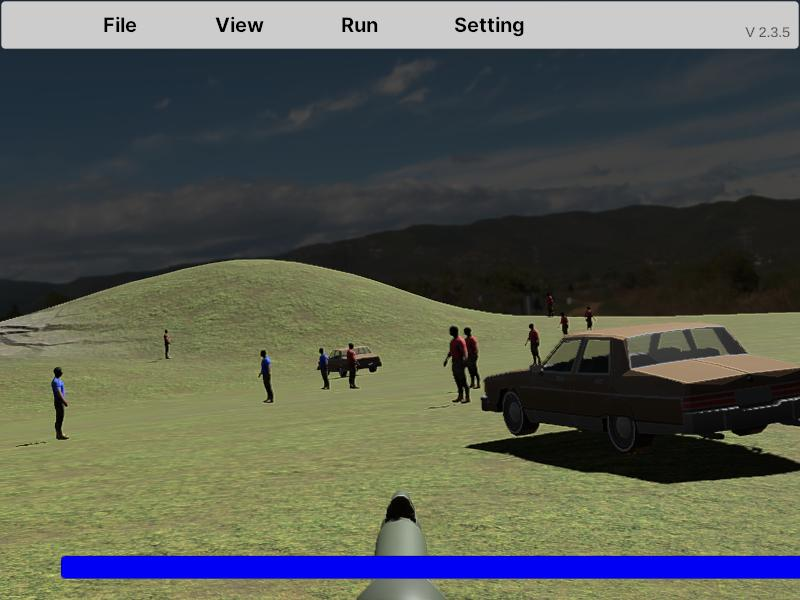Human: (443, 324, 468, 404), (52, 366, 69, 441)
car: (480, 324, 800, 456), (317, 344, 382, 378)
